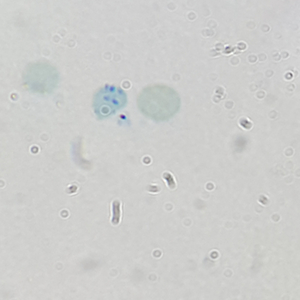aggregate reticulocyte: (90, 82, 129, 123)
erythrocyte: (134, 83, 184, 123), (21, 59, 63, 96)
